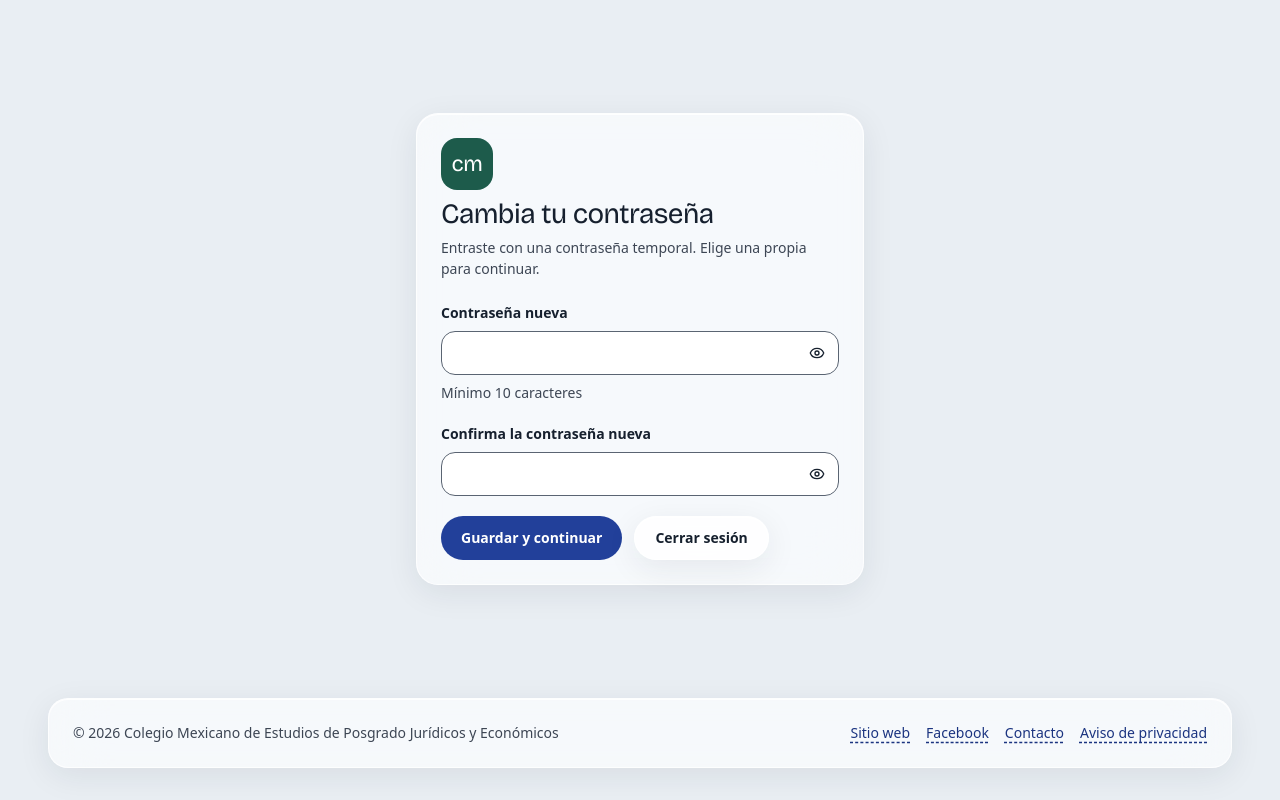
it: CambiarContrasenaView › con una nueva igual a la temporal muestra la alerta
In the password field labelled "Contraseña nueva": (640, 353) [441, 331, 839, 375], type "clave-nueva-1234"
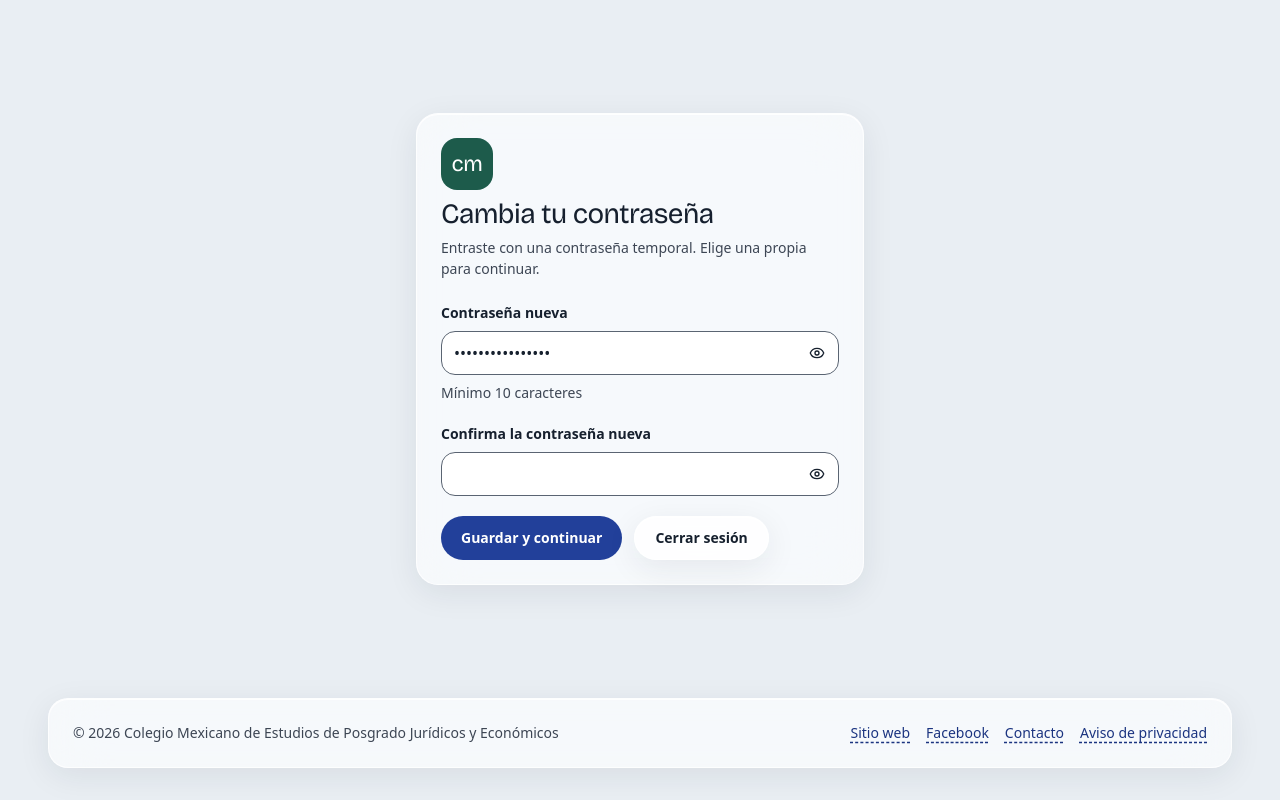
In the password field labelled "Confirma la contraseña nueva": (640, 474) [441, 452, 839, 496], type "clave-nueva-1234"
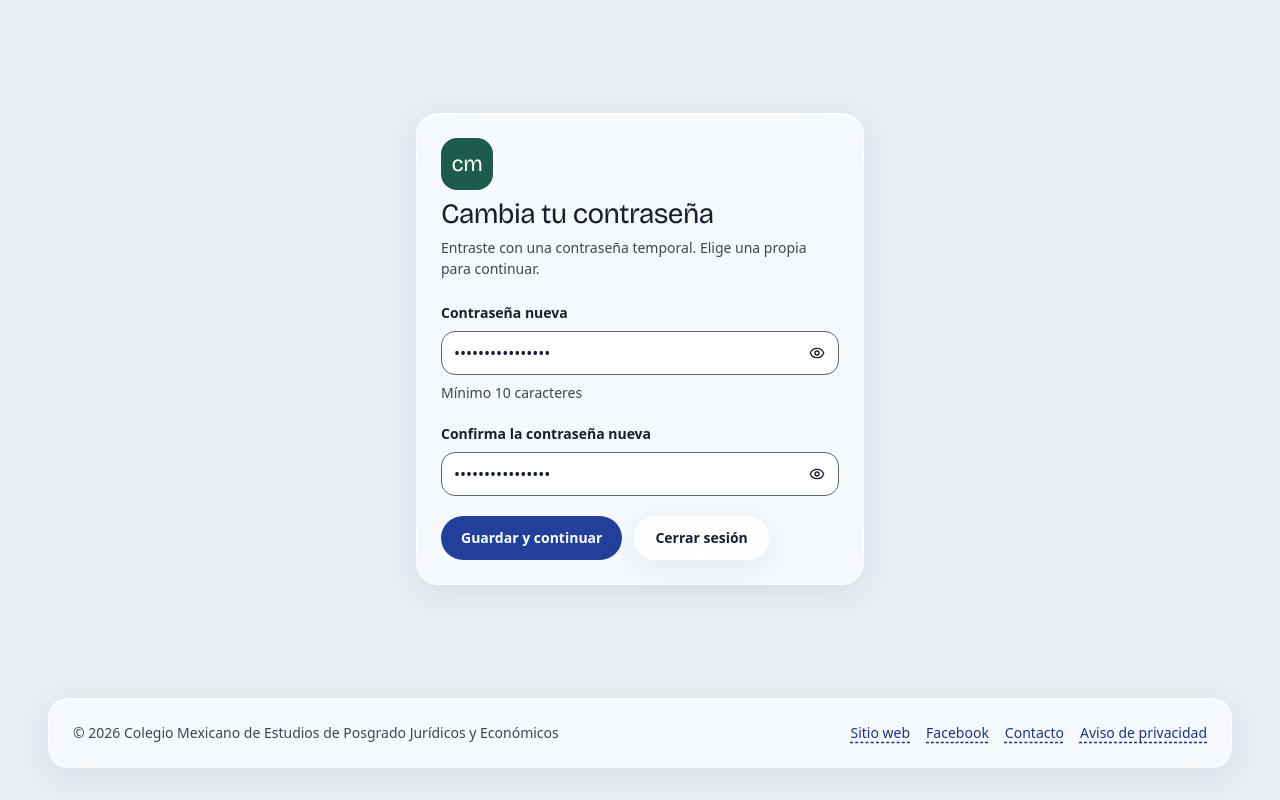
Click the button "Guardar y continuar": (532, 538) [441, 516, 622, 560]
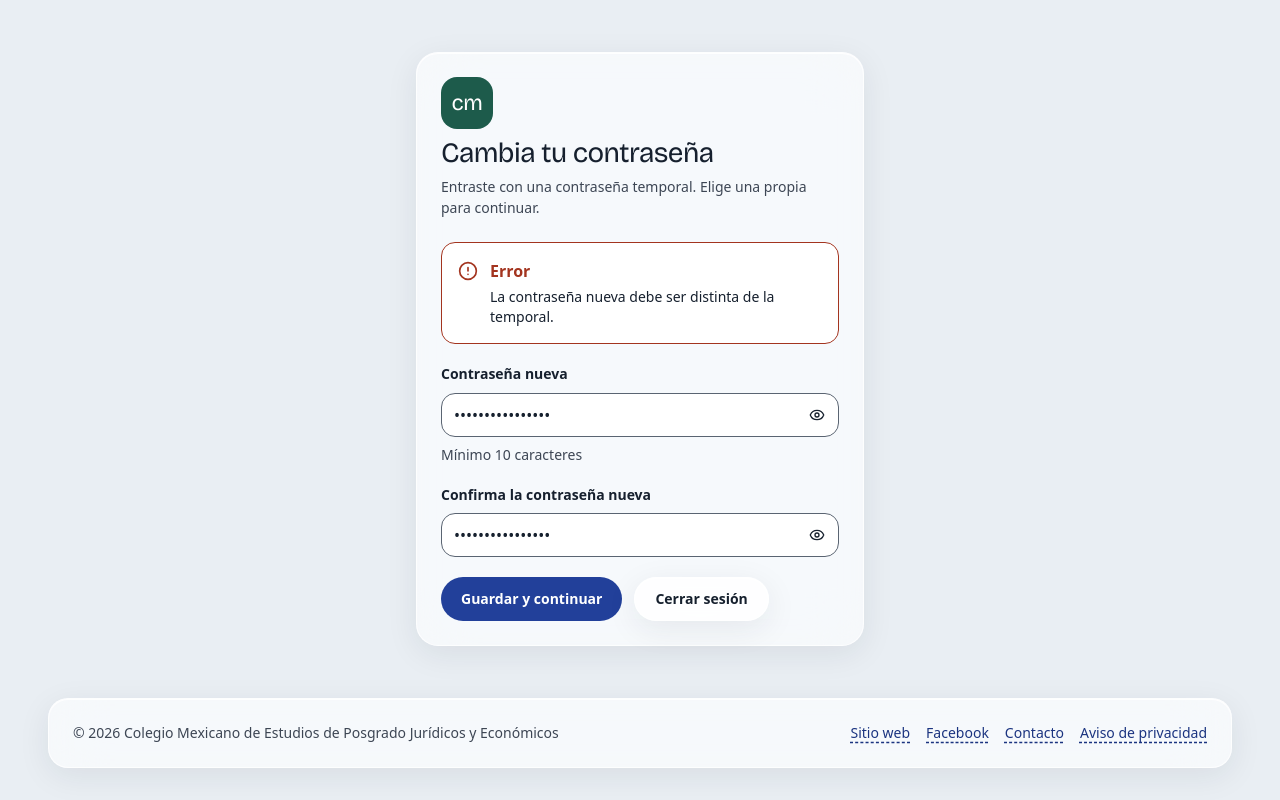
Expected: the message shows "La contraseña nueva debe ser distinta de la temporal.", [490, 287, 774, 326]
